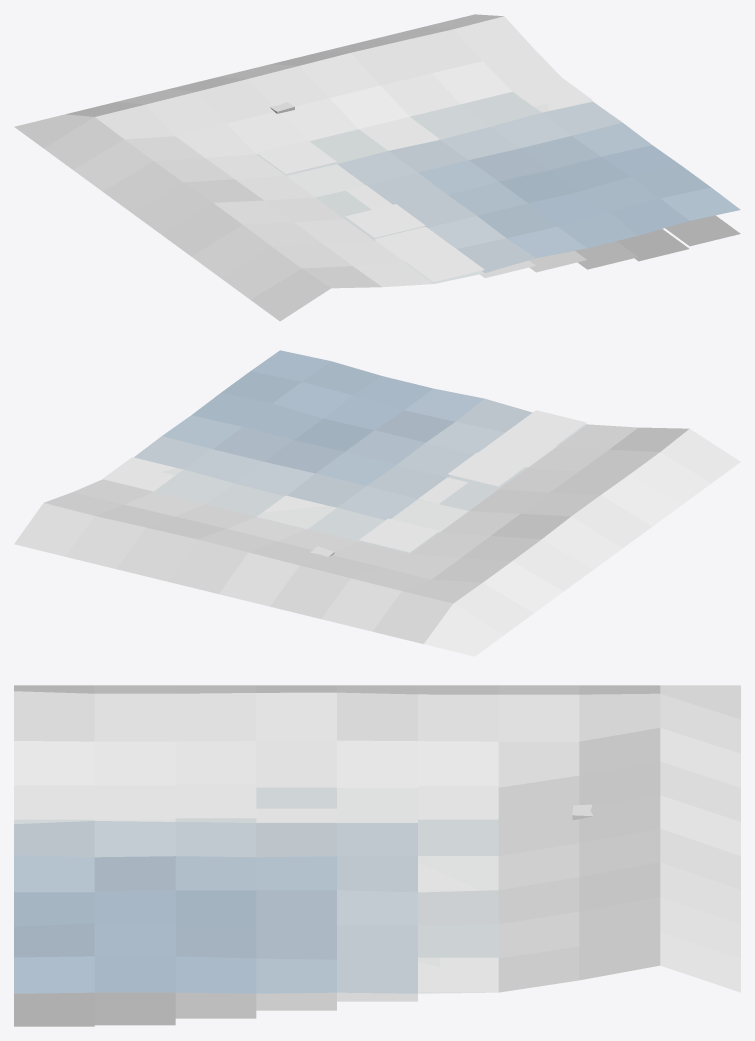
Rendered from water_corner_lowpoly.glb.
3 views of the same model, one above another, from view 1: azimuth 30°, elevation 25°; view 2: azimuth 150°, elevation 25°; view 3: azimuth 270°, elevation 25° (orthographic). The views are drawn at different scales.
Visible parts, largest first — view 1: WaterCorner; view 2: WaterCorner; view 3: WaterCorner.
Part boxes in pixels (x1=…): WaterCorner: x1=14, y1=14, x2=740, y2=321; WaterCorner: x1=14, y1=350, x2=740, y2=656; WaterCorner: x1=14, y1=685, x2=740, y2=1026.
Bounding box in the file's own units: 1 × 0.0997 × 1.
